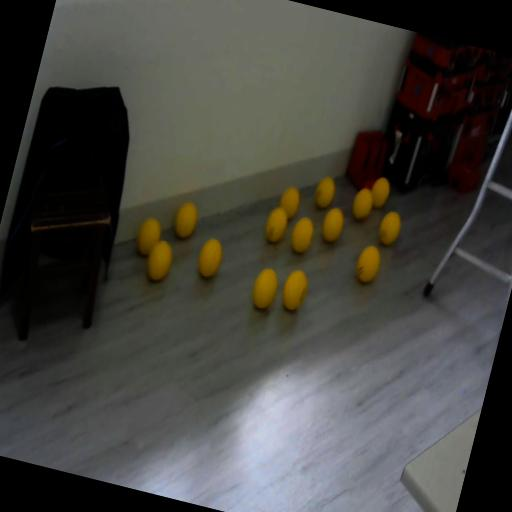FUEL: (278, 266, 312, 314), (142, 236, 176, 284), (193, 234, 227, 282), (248, 266, 282, 312), (352, 242, 384, 286), (133, 216, 164, 258), (287, 214, 317, 256), (318, 204, 348, 246), (348, 184, 378, 224), (172, 200, 201, 241), (375, 208, 404, 248), (276, 184, 303, 222), (311, 174, 338, 210), (367, 174, 393, 210)
